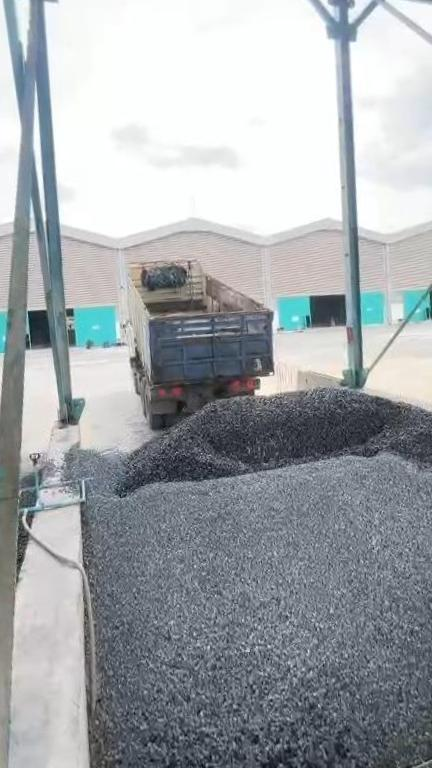gravel: (57, 440, 432, 768), (116, 388, 432, 495), (17, 510, 34, 570)
